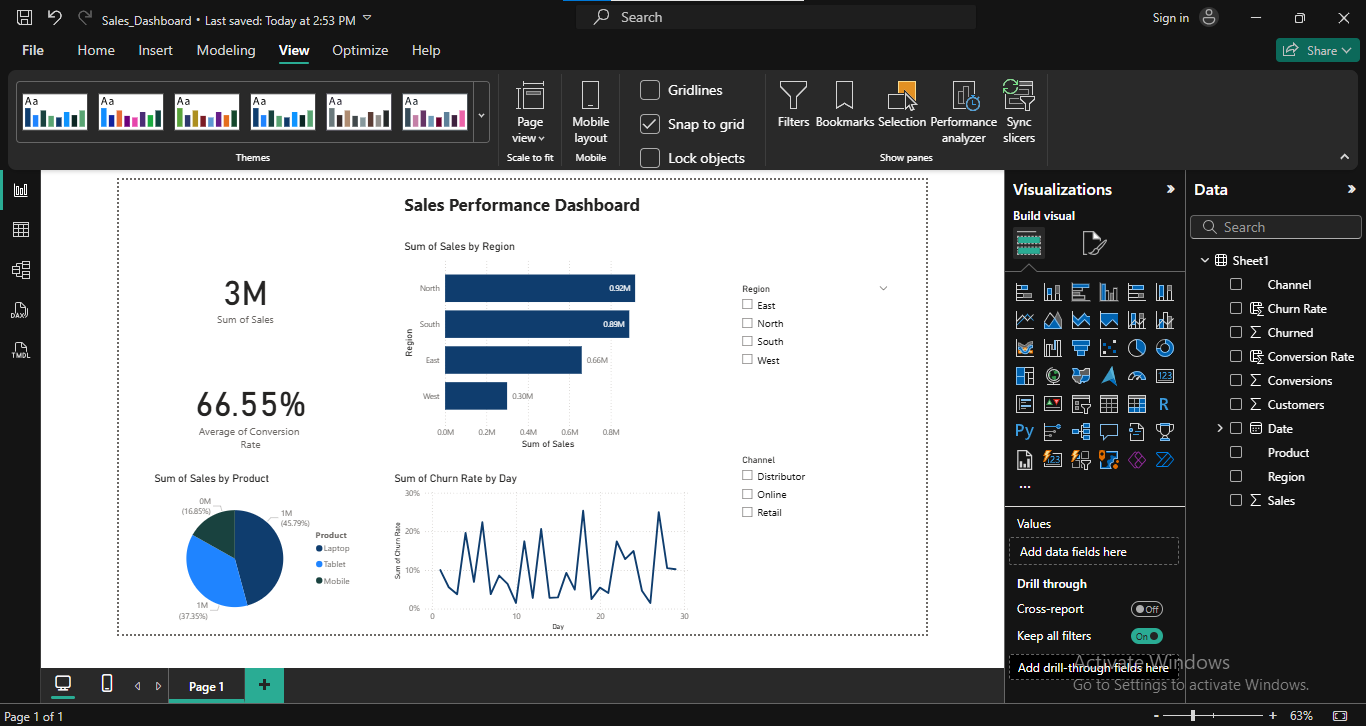

The page's visual inventory and layout, read from the dashboard file:
{"tool":"powerbi","page":{"name":"Page 1","canvas":[1280,720],"ordinal":0},"visuals":[{"type":"card","fields":{"Values":["Sum(Sheet1.Sales)"]},"box":[112,96,176,176],"z":0},{"type":"card","fields":{"Values":["Avg(Sheet1.Conversion Rate)"]},"box":[112,256,192,208],"z":1000},{"type":"barChart","fields":{"Category":["Sheet1.Region"],"Y":["Sum(Sheet1.Sales)"]},"box":[448,96,416,336],"z":2000},{"type":"pieChart","fields":{"Category":["Sheet1.Product"],"Y":["Sum(Sheet1.Sales)"]},"box":[51.2,463.9,335.1,256],"z":3000},{"type":"lineChart","fields":{"Y":["Sum(Sheet1.Churn Rate)"],"Category":["Sheet1.Date.Variation.Date Hierarchy.Day"]},"box":[432,464,480,256],"z":4000},{"type":"slicer","fields":{"Values":["Sheet1.Region"]},"box":[976,160,256,224],"z":5000},{"type":"slicer","fields":{"Values":["Sheet1.Channel"]},"box":[976,432,256,256],"z":6000},{"type":"textbox","box":[400,16,480,64],"z":7000}]}

Visuals, with their boxes on the page's 1280x720 design canvas (x1, y1, x2, y2). These are canvas units, not pixel positions in the 1366x726 screenshot, which may show the page scaled, cropped or inside an application window:
card - Sum(Sheet1.Sales): left=112, top=96, right=288, bottom=272
card - Avg(Sheet1.Conversion Rate): left=112, top=256, right=304, bottom=464
barChart - Sheet1.Region x Sum(Sheet1.Sales): left=448, top=96, right=864, bottom=432
pieChart - Sheet1.Product x Sum(Sheet1.Sales): left=51, top=464, right=386, bottom=720
lineChart - Sum(Sheet1.Churn Rate) x Sheet1.Date.Variation.Date Hierarchy.Day: left=432, top=464, right=912, bottom=720
slicer - Sheet1.Region: left=976, top=160, right=1232, bottom=384
slicer - Sheet1.Channel: left=976, top=432, right=1232, bottom=688
textbox: left=400, top=16, right=880, bottom=80
